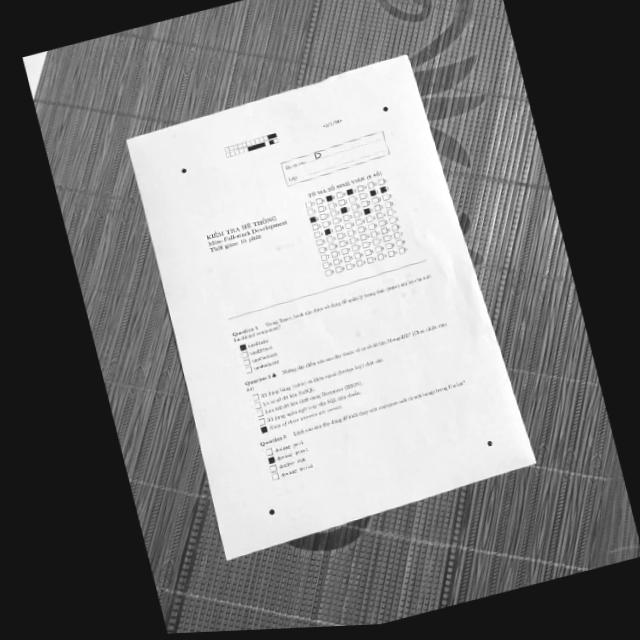Markers: (485, 439, 492, 446), (381, 104, 387, 111), (268, 508, 274, 515), (180, 167, 186, 173)
